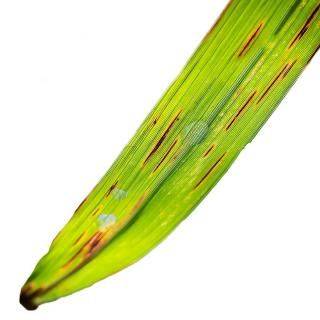Bercak-Cokelat-Sempit: (58, 189, 151, 273), (138, 108, 185, 170), (253, 57, 300, 110), (183, 147, 230, 194), (219, 87, 264, 136), (285, 0, 320, 48), (232, 20, 269, 61), (148, 134, 182, 178), (97, 176, 124, 202), (146, 110, 162, 131), (88, 204, 104, 220)
